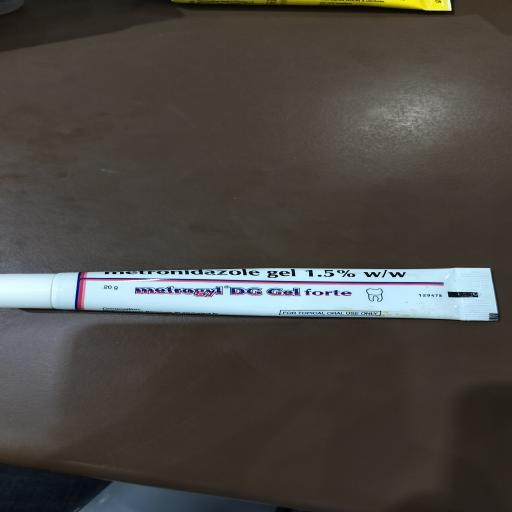medicine: (0, 268, 498, 318)
metrogyl-DG-Gel: (124, 282, 357, 301)
